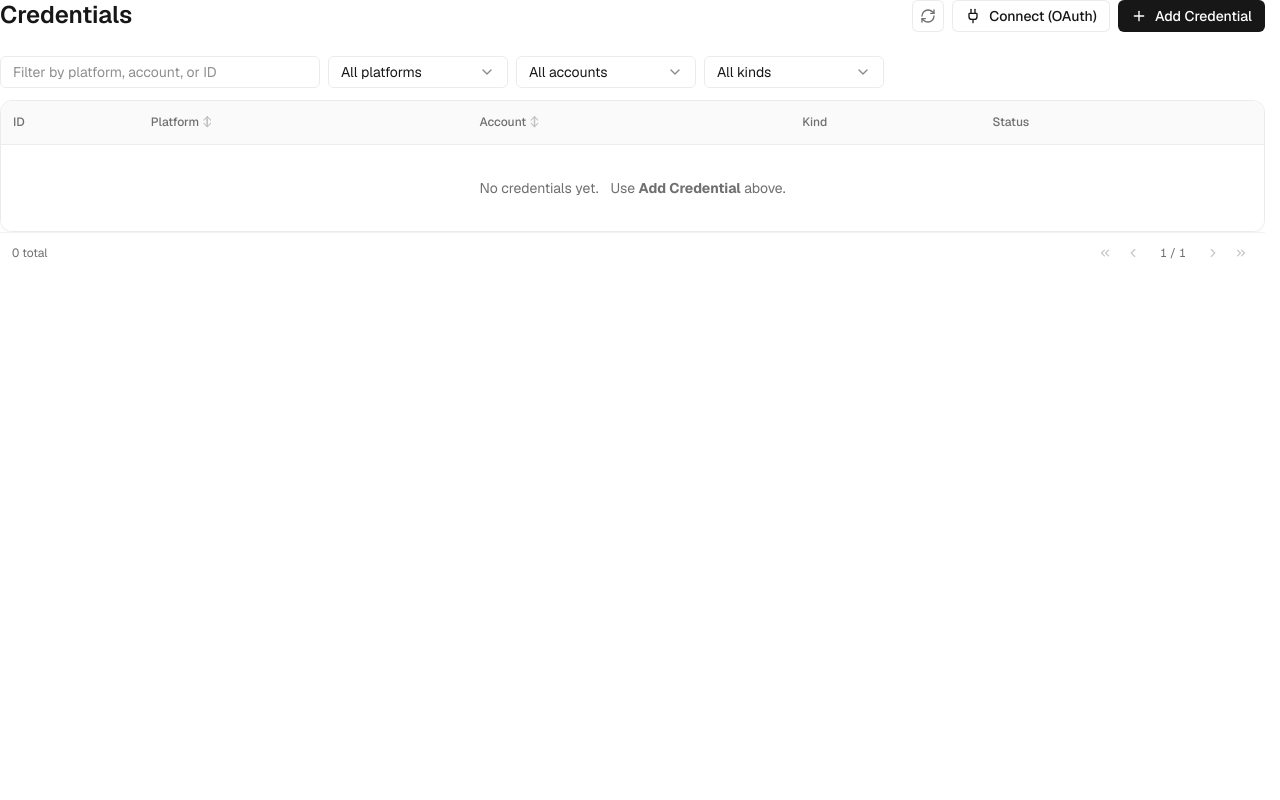
Test case: CredentialsPage › Field injects aria-describedby + aria-invalid on control when error is present (inc-24 §3 fix)
The image size is (1280, 800).
Click the button "Add Credential" at (1191, 16), box [1118,0,1265,32]
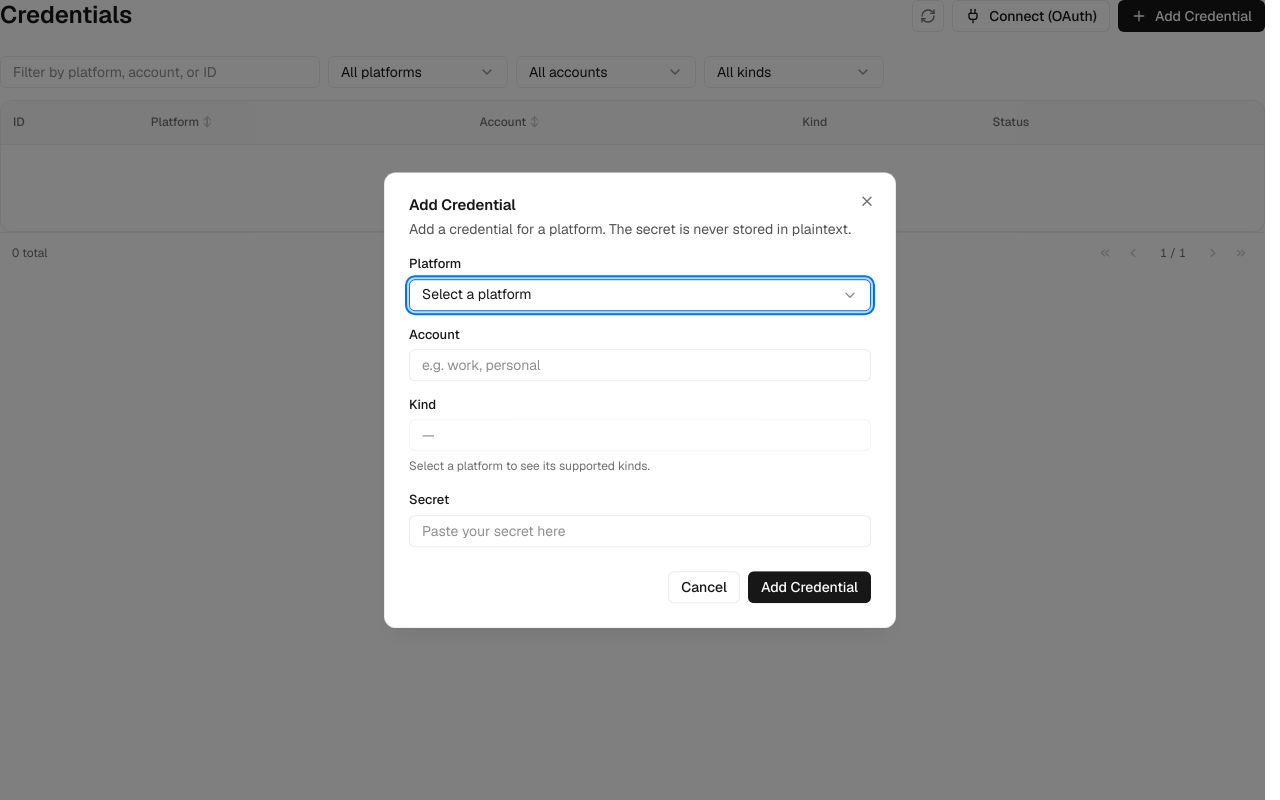
Now the dialog is shown, box [384,172,896,628]
Now the submit button is shown
Click the submit button at (809, 587), box [748,571,871,603]
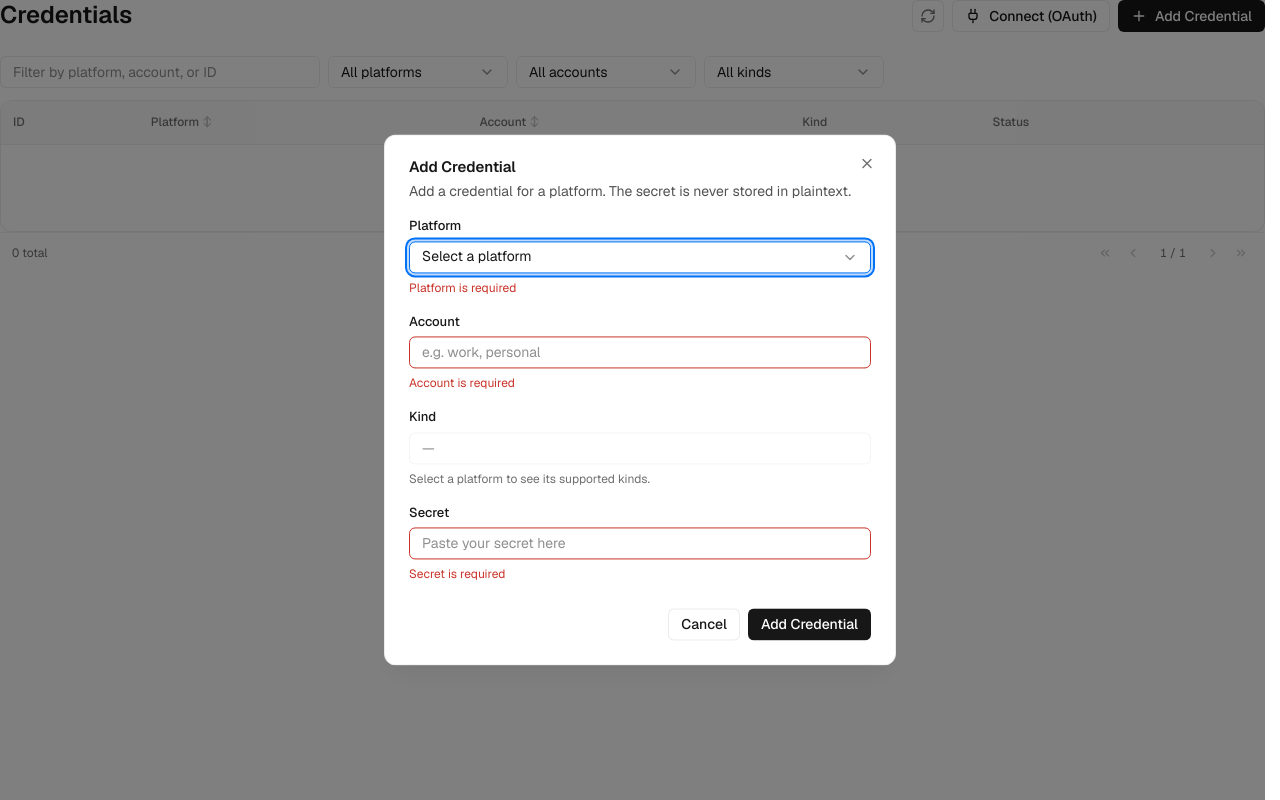
Now the text "Account is required" is shown, box [409,376,515,392]
